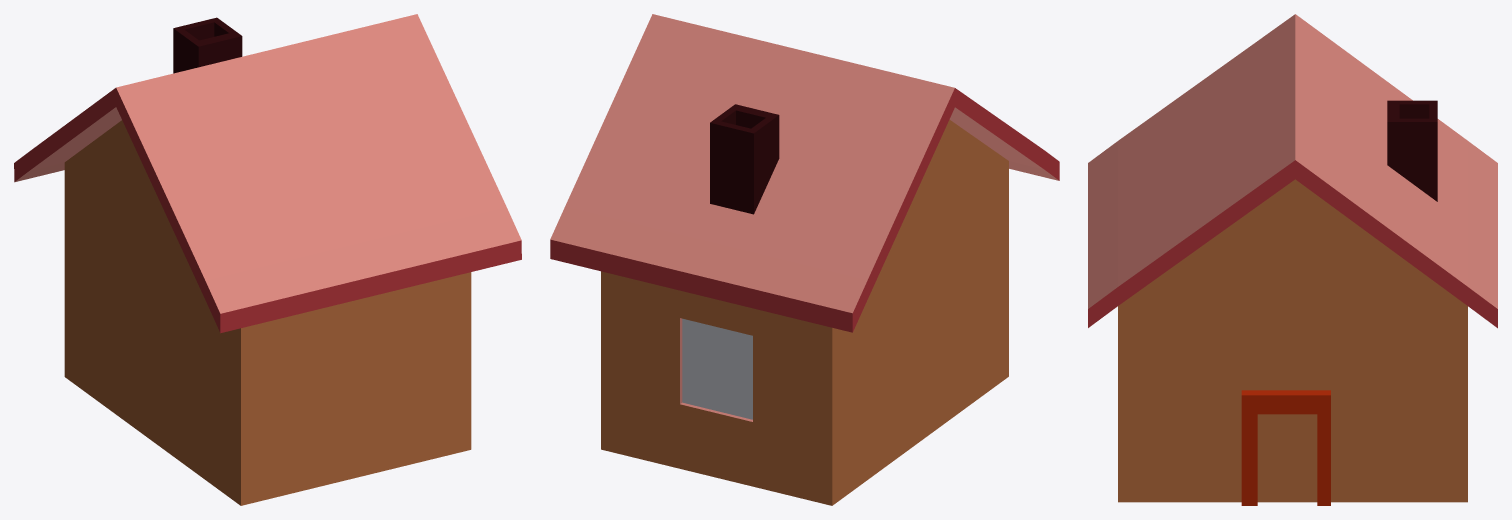
The model's file is house-v2.obj.
3 renders of one model, left to right at view 1: azimuth 30°, elevation 25°; view 2: azimuth 150°, elevation 25°; view 3: azimuth 270°, elevation 25°, orthographic.
Visible parts, largest first — view 1: Cube, chimney; view 2: Cube, chimney; view 3: Cube, door, chimney.
Boxes of the visible parts, x1,y1,x2,y2 form: Cube: (14, 14, 521, 505); chimney: (173, 17, 242, 73); Cube: (550, 14, 1059, 505); chimney: (710, 104, 779, 214); Cube: (1088, 14, 1497, 502); door: (1241, 390, 1330, 505); chimney: (1387, 100, 1437, 201).
Size of the model in its own units: 4.62 by 5.3 by 5.48.
